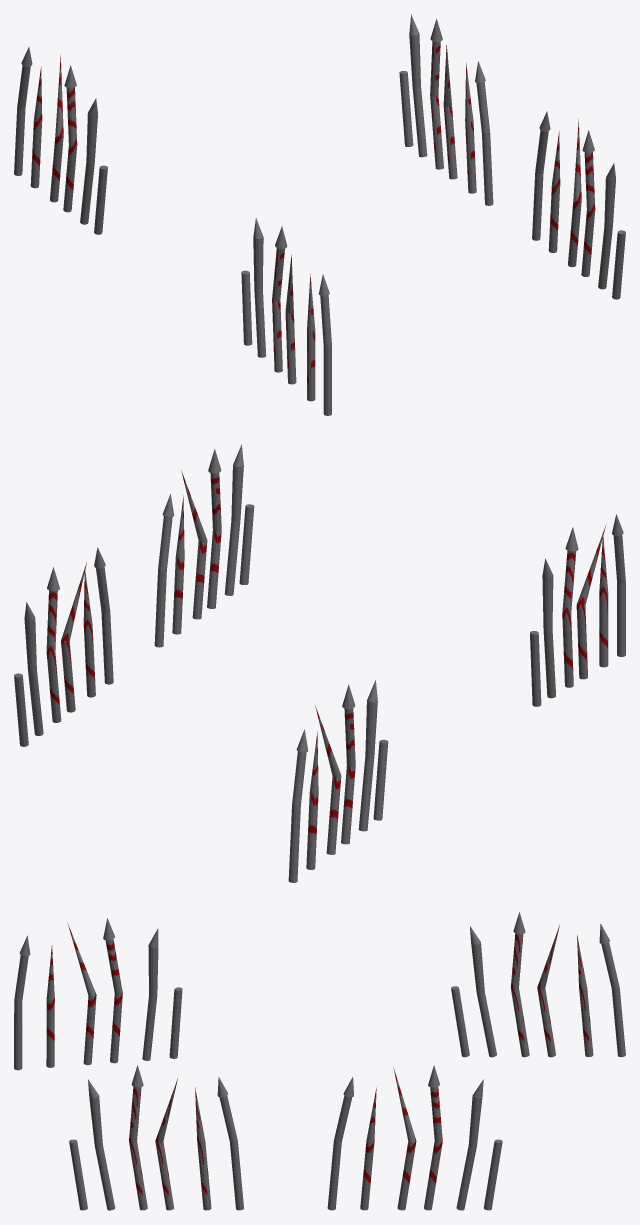
Rendered from PicasPuente.fbx.
3 renders of one model, top to bottom at view 1: azimuth 30°, elevation 25°; view 2: azimuth 150°, elevation 25°; view 3: azimuth 270°, elevation 25°, orthographic. The views are drawn at different scales.
Parts seen in each view (by area): view 1: Vert.003; view 2: Vert.003; view 3: Vert.003.
Part boxes in pixels (box(x1,y1,x2,y2)): Vert.003: box(14, 14, 625, 415); Vert.003: box(14, 444, 625, 882); Vert.003: box(14, 912, 625, 1210).
Size of the model in its own units: 94.87 by 42.44 by 150.
1 material, 1 textured.
